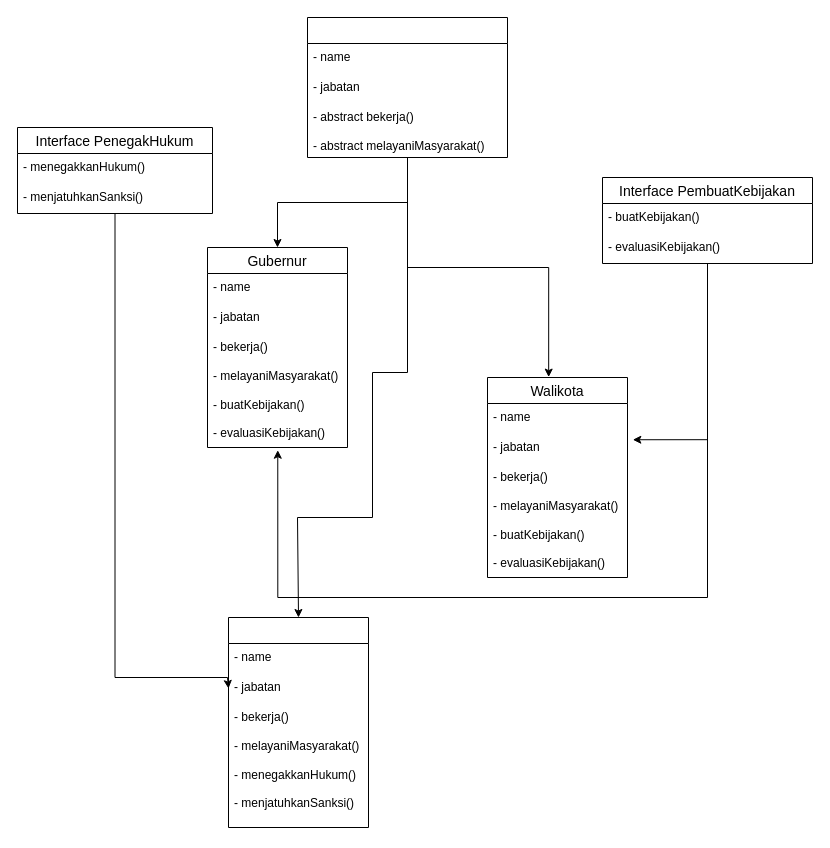
Image size: 830x848. Some labels were removed from this diagram. The shapes that lost their labels are listed below. From the top down, each one's box as (x1, y1, x2, y2) in pixels, then its label:
(306, 16, 508, 158): Class PejabatPemerintah
(228, 616, 368, 828): Hakim
